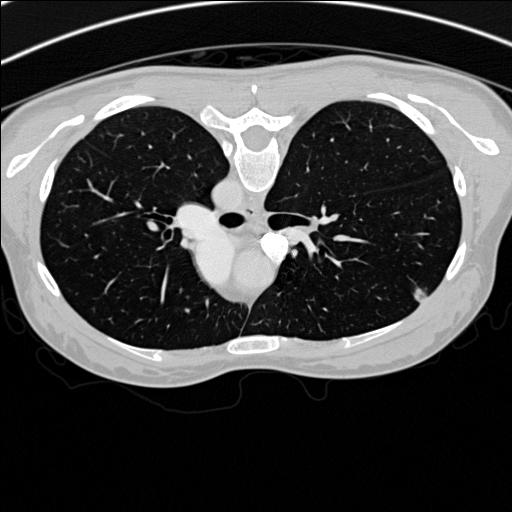nodule: (413, 288, 430, 305)
